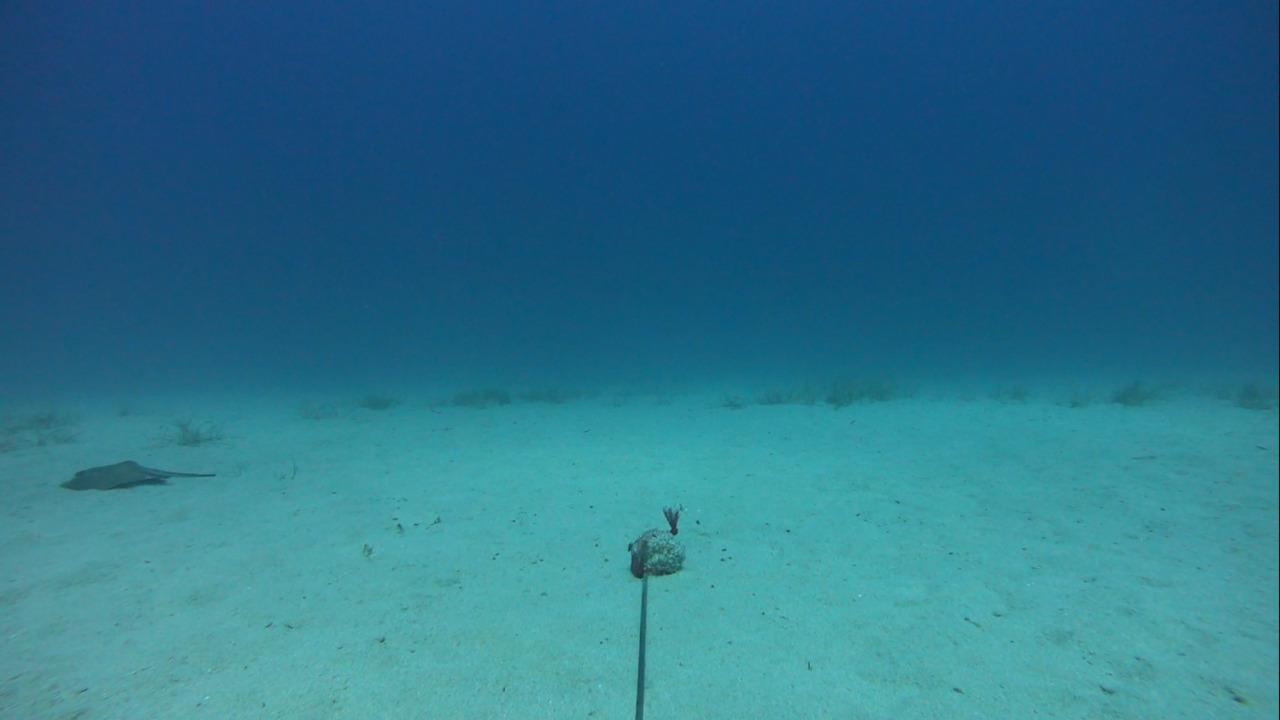myliobatis: (55, 455, 216, 495)
